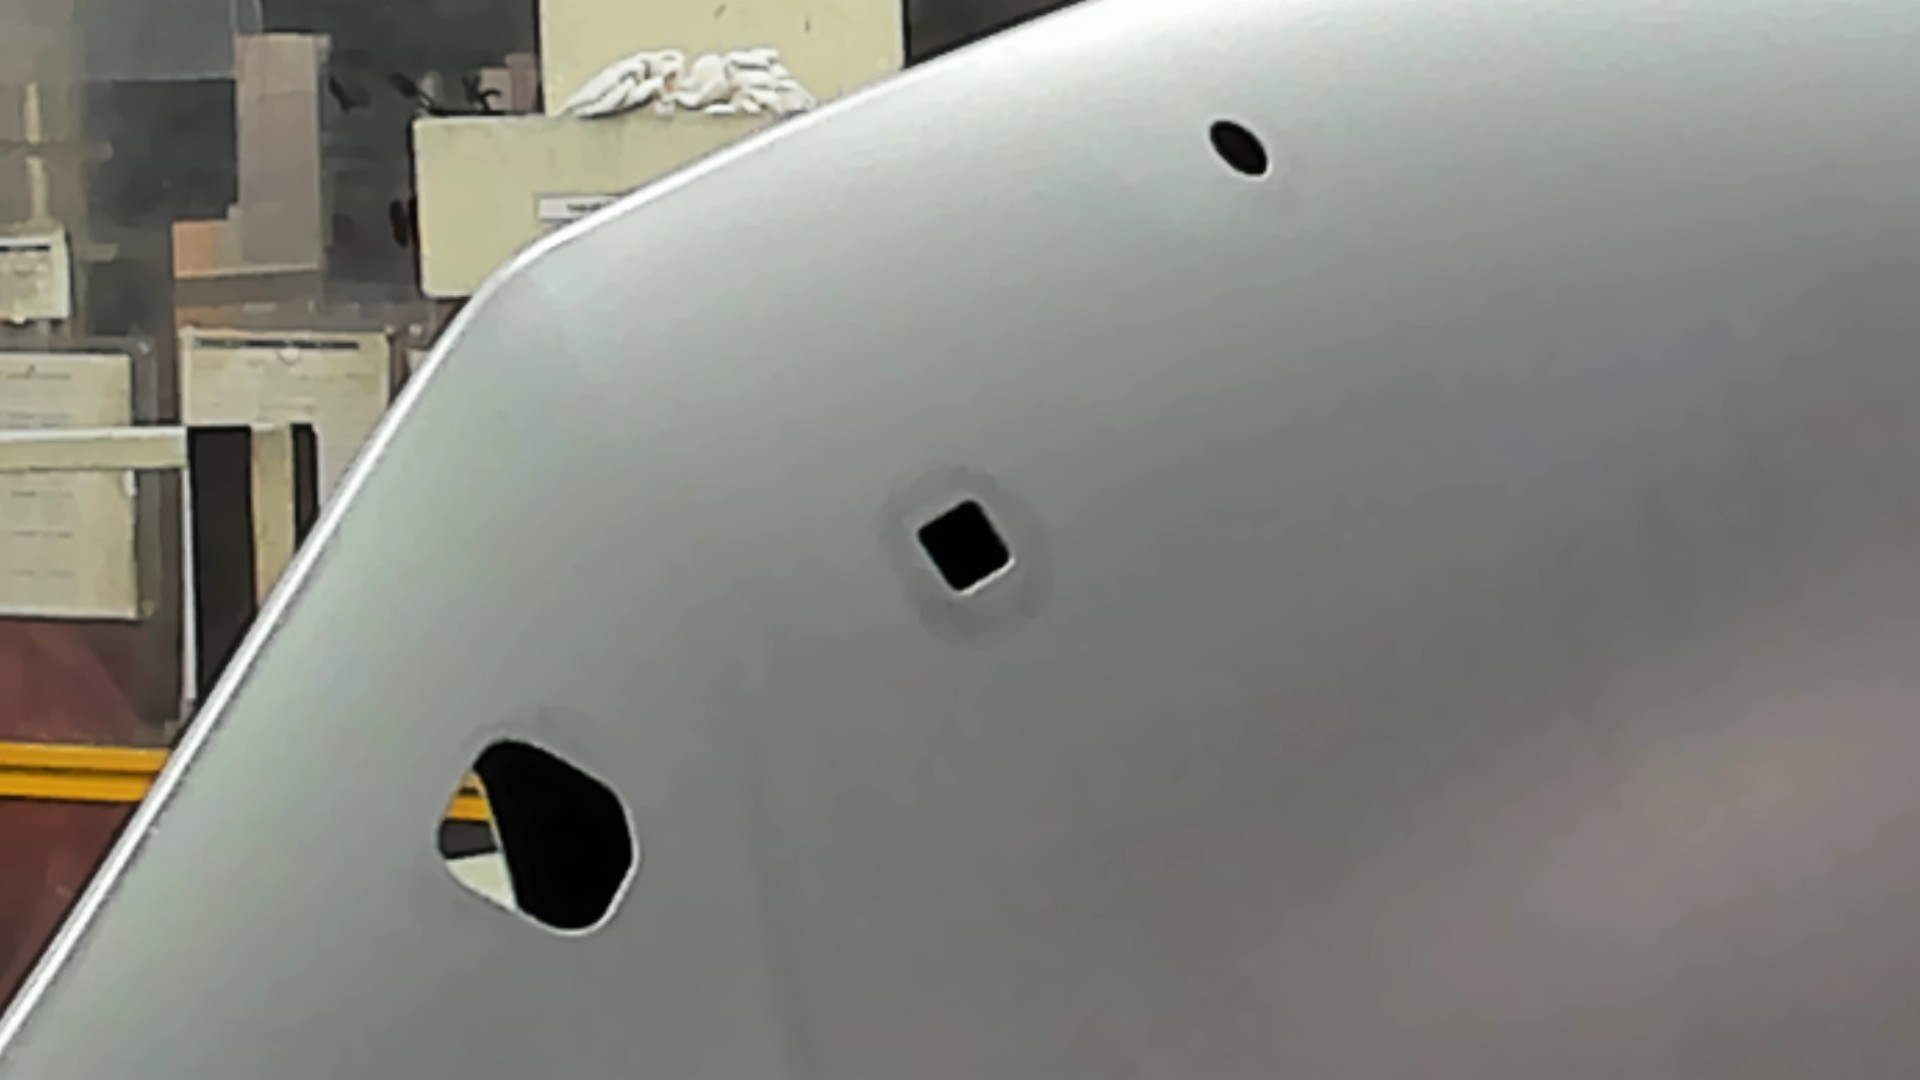capo: (1014, 182, 1920, 1075)
chico: (1203, 113, 1273, 181)
grande: (425, 732, 644, 944)
mediano: (905, 492, 1021, 604)
